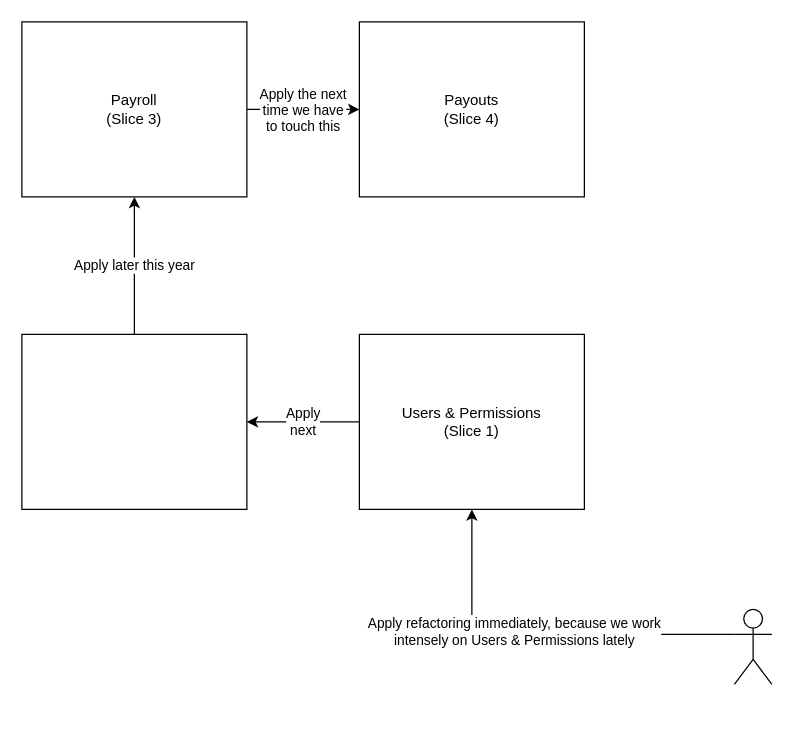
The diagram is 809 pixels wide and 733 high, and some of its shapes have lost their labels. Each missing label, with the centre of its shape:
Accounting (Slice 2): point (134, 421)
Dev Team: point (752, 646)
